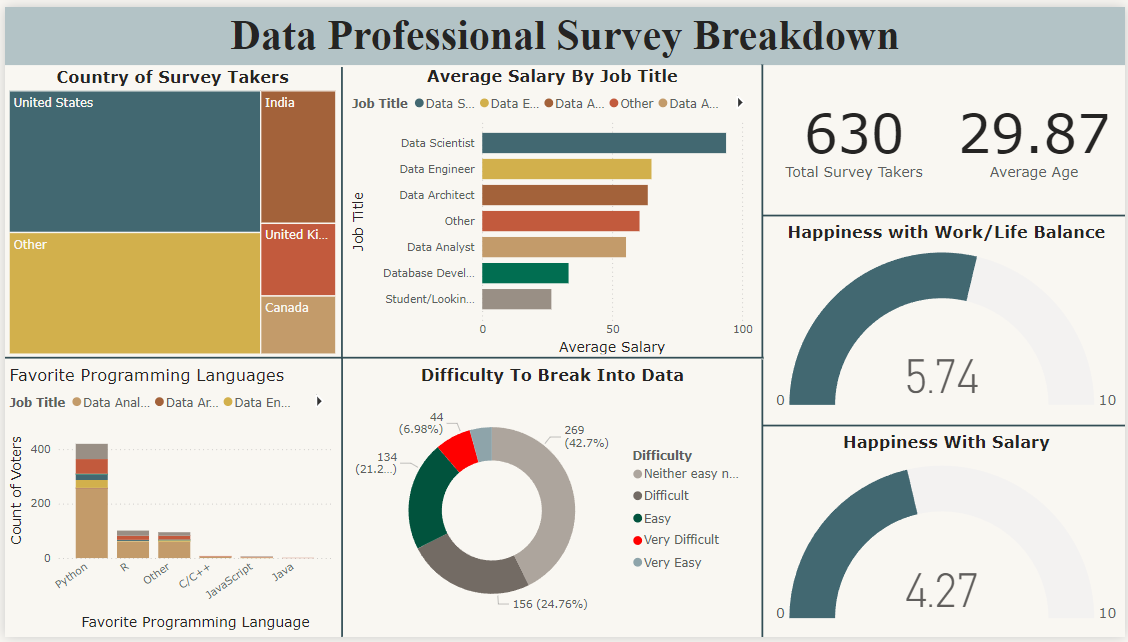

What the dashboard file says about the page in this screenshot:
{"tool":"powerbi","page":{"name":"Page 1","canvas":[1280,720],"ordinal":0},"visuals":[{"type":"textbox","box":[0,0,1280,66.7],"z":0},{"type":"card","fields":{"Values":["Avg(Data Professional Survey.Q10 - Current Age)"]},"box":[1073.3,68.3,206.7,165],"z":1000},{"type":"card","fields":{"Values":["Count(Data Professional Survey.Unique ID)"]},"box":[866.7,68.3,206.7,165],"z":2000},{"type":"barChart","title":"Average Salary By Job Title","fields":{"Category":["Data Professional Survey.Q1 - Which Title Best Fits your Current Role?.1"],"Y":["Avg(Data Professional Survey.Average Salary)"],"Series":["Data Professional Survey.Q1 - Which Title Best Fits your Current Role?.1"]},"box":[391.7,66.7,468.3,335],"z":3000},{"type":"columnChart","title":"Favorite Programming Languages","fields":{"Category":["Data Professional Survey.Q5 - Favorite Programming Language.1"],"Y":["CountNonNull(Data Professional Survey.Unique ID)"],"Series":["Data Professional Survey.Q1 - Which Title Best Fits your Current Role?.1"]},"box":[0,408.3,378.3,308.3],"z":4000},{"type":"treemap","title":"Country of Survey Takers","fields":{"Group":["Data Professional Survey.Q11 - Which Country do you live in?.1"],"Values":["CountNonNull(Data Professional Survey.Q11 - Which Country do you live in?.1)"]},"box":[0,68.3,383.3,333.3],"z":5000},{"type":"gauge","title":"Happiness with Work/Life Balance","fields":{"Y":["Avg(Data Professional Survey.Q6 - How Happy are you in your Current Position with the following? (Work/Life Balance))"],"MinValue":["Min(Data Professional Survey.Q6 - How Happy are you in your Current Position with the following? (Work/Life Balance))1"],"MaxValue":["Max(Data Professional Survey.Q6 - How Happy are you in your Current Position with the following? (Work/Life Balance))2"]},"box":[871.4,245.7,408.9,226.9],"z":6000},{"type":"gauge","title":"Happiness With Salary","fields":{"Y":["Avg(Data Professional Survey.Q6 - How Happy are you in your Current Position with the following? (Salary))"],"MinValue":["Min(Data Professional Survey.Q6 - How Happy are you in your Current Position with the following? (Salary))"],"MaxValue":["Max(Data Professional Survey.Q6 - How Happy are you in your Current Position with the following? (Salary))"]},"box":[871.4,485.5,408.9,234.1],"z":7000},{"type":"donutChart","title":"Difficulty To Break Into Data","fields":{"Category":["Data Professional Survey.Q7 - How difficult was it for you to break into Data?"],"Y":["CountNonNull(Data Professional Survey.Q7 - How difficult was it for you to break into Data?)"]},"box":[391.7,408.3,468.3,311.7],"z":8000},{"type":"shape","box":[0,394.5,867,13],"z":9000},{"type":"shape","box":[378.6,67.9,13,333.8],"z":10000},{"type":"shape","box":[860,65.6,11.1,334.4],"z":10001},{"type":"shape","box":[860,402.2,11.1,317.8],"z":10002},{"type":"shape","box":[378.3,401.7,13.3,318.3],"z":10003},{"type":"shape","box":[865,230,415,16.7],"z":10004},{"type":"shape","box":[865,470,415,16.7],"z":10005}]}

Visuals, with their boxes in screenshot pixels (x1, y1, x2, y2), scaled from the page's 1280x720 canvas onto the 1128x642 screenshot:
textbox: select_region(0, 0, 1127, 59)
card - Avg(Data Professional Survey.Q10 - Current Age): select_region(946, 61, 1127, 208)
card - Count(Data Professional Survey.Unique ID): select_region(764, 61, 946, 208)
"Average Salary By Job Title" barChart: select_region(345, 59, 758, 358)
"Favorite Programming Languages" columnChart: select_region(0, 364, 333, 639)
"Country of Survey Takers" treemap: select_region(0, 61, 338, 358)
"Happiness with Work/Life Balance" gauge: select_region(768, 219, 1127, 421)
"Happiness With Salary" gauge: select_region(768, 433, 1127, 641)
"Difficulty To Break Into Data" donutChart: select_region(345, 364, 758, 641)
shape: select_region(0, 352, 764, 363)
shape: select_region(334, 61, 345, 358)
shape: select_region(758, 58, 768, 357)
shape: select_region(758, 359, 768, 641)
shape: select_region(333, 358, 345, 641)
shape: select_region(762, 205, 1127, 220)
shape: select_region(762, 419, 1127, 434)
